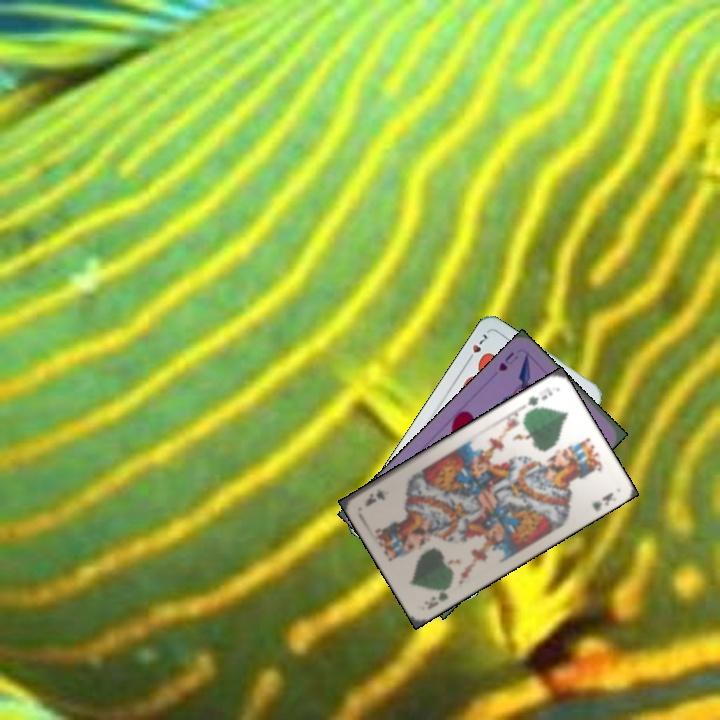GK: (523, 383, 555, 408), (423, 587, 451, 612)
H7: (463, 329, 491, 365)
HU: (494, 348, 521, 374)
